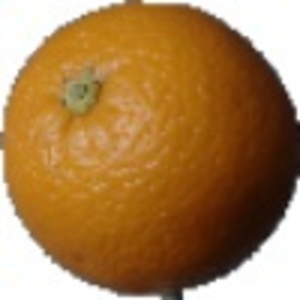laranja: (3, 4, 296, 297)
